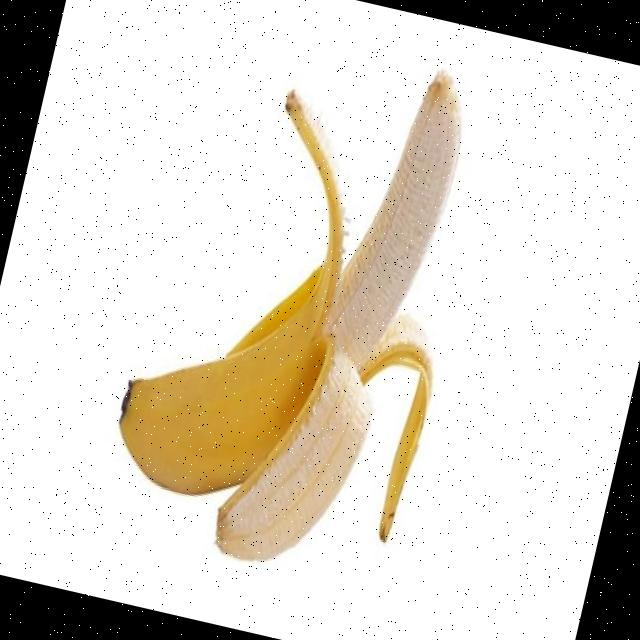banana-peel: (92, 14, 505, 594)
